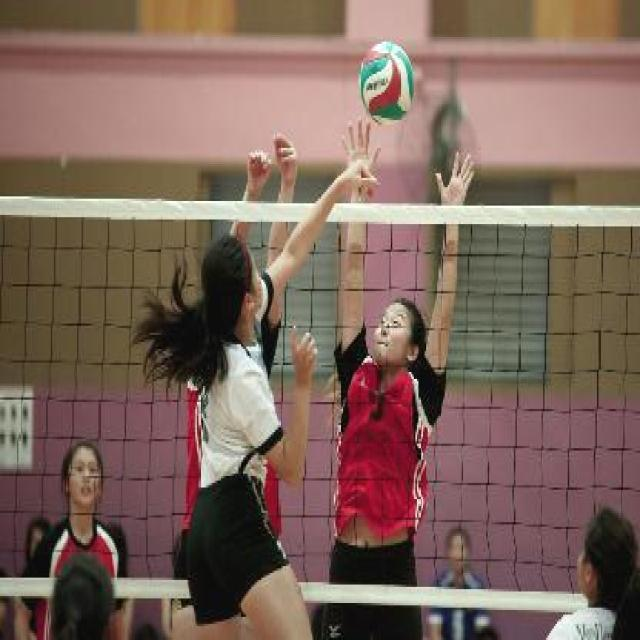volleyball: (359, 42, 414, 125)
